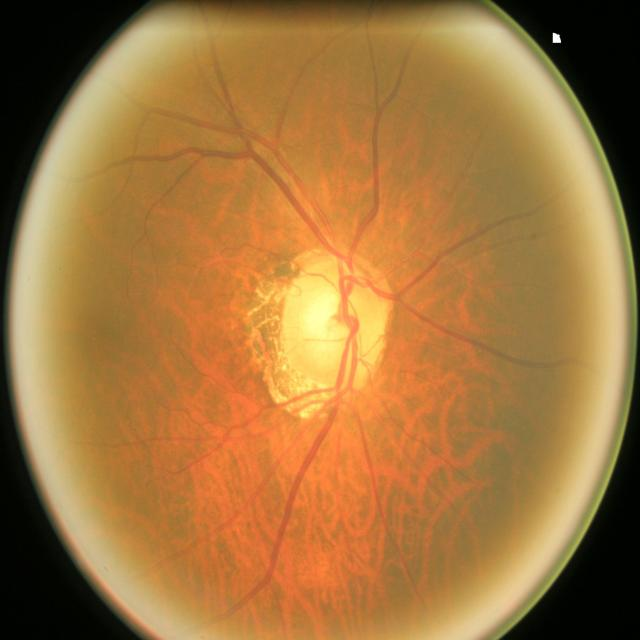OC: (301, 282, 360, 359)
OD: (285, 254, 391, 402)
